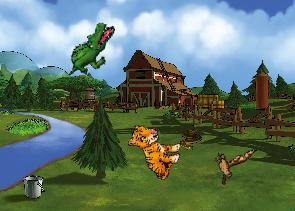crocodile: (66, 16, 116, 83)
eagle: (205, 134, 257, 192)
tiger: (120, 121, 186, 182)
